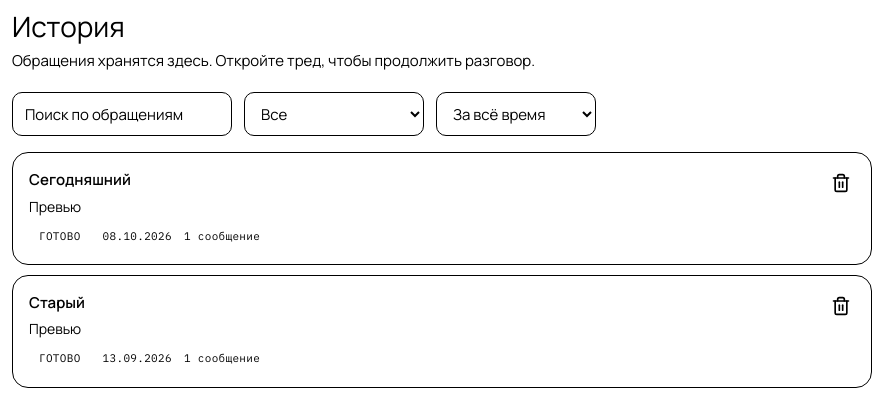
Test: HistoryPage › фильтрует по периоду ('Сегодня') на уже загруженной странице
Expected: the text "Сегодняшний" is shown, [29,169,131,190]
Step 1. Select "Сегодня" in the dropdown named "Период" → coordinates (516, 114), box [436,92,596,136]
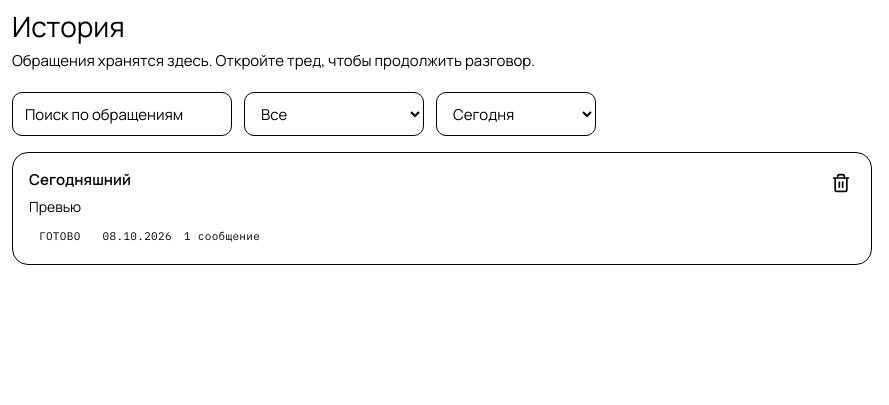
Expected: the text "Сегодняшний" is shown, [29,169,131,190]
Expected: the link "Старый" is gone
